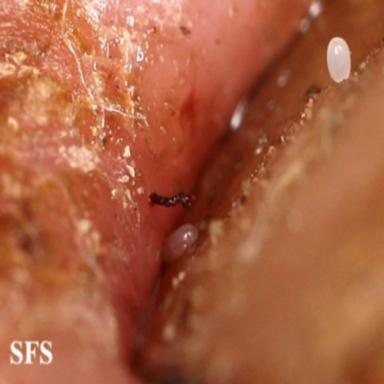Tungiasis: (327, 37, 351, 82), (149, 192, 193, 207), (308, 1, 323, 19)
